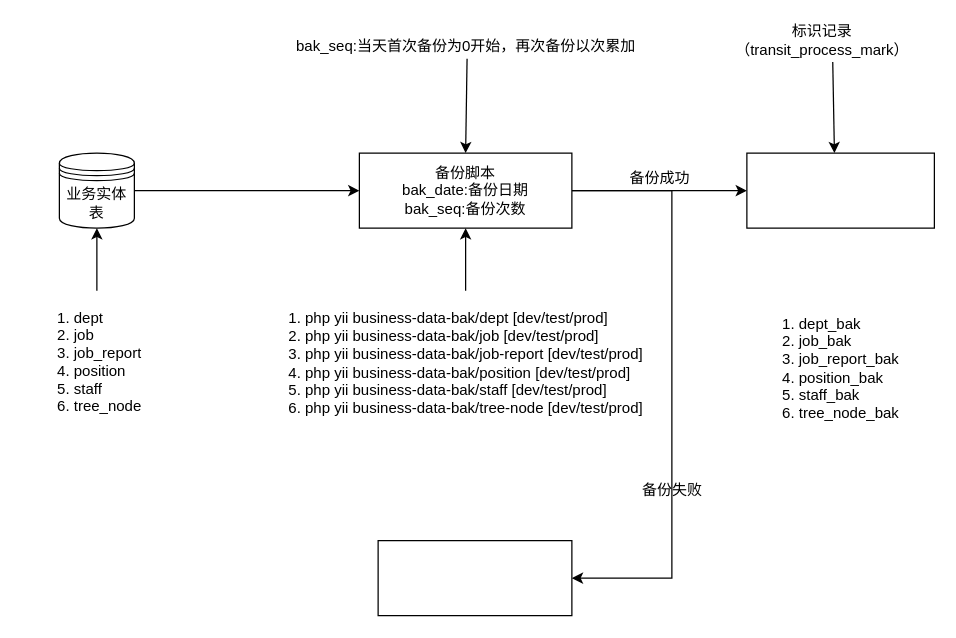
Image size: 956x638. Some labels were removed from this diagram. Here are the shapes that lost their labels. From the top down, the box of each, then its label:
(746, 152, 934, 228): 添加备份完成标识 发送备份完成到企业微信
(377, 539, 572, 616): 发送备份失败企业微信
